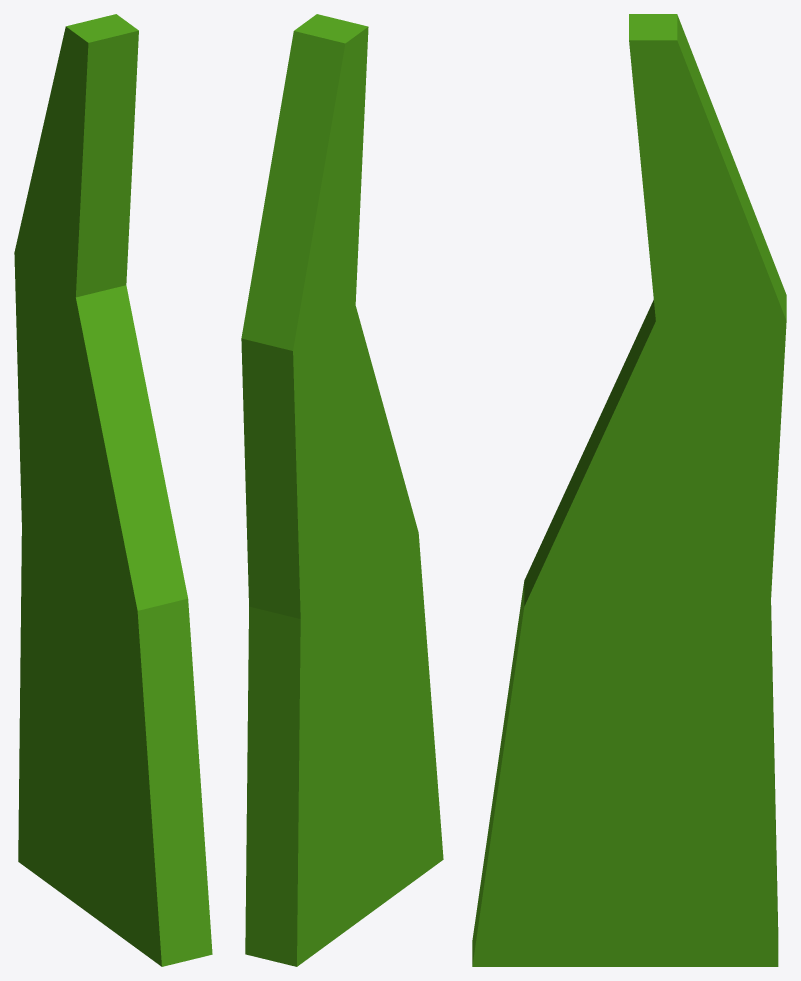
The model's file is GrassSingle_c_01.fbx.
3 views of the same model, side by side, from view 1: azimuth 30°, elevation 25°; view 2: azimuth 150°, elevation 25°; view 3: azimuth 270°, elevation 25° (orthographic). The views are drawn at different scales.
Visible parts, largest first — view 1: GrassSingle_c_01; view 2: GrassSingle_c_01; view 3: GrassSingle_c_01.
Boxes of the visible parts, left/top/right/bottom form: GrassSingle_c_01: left=14, top=14, right=212, bottom=966; GrassSingle_c_01: left=241, top=14, right=443, bottom=966; GrassSingle_c_01: left=472, top=14, right=786, bottom=966.
Size of the model in its own units: 0.4098 by 6.74 by 2.07.
